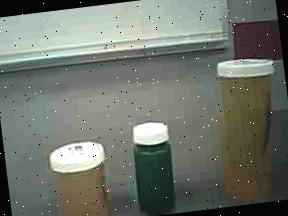Bottle A: (207, 48, 288, 207)
Bottle B: (41, 134, 117, 216)
Bottle C: (124, 114, 191, 216)
